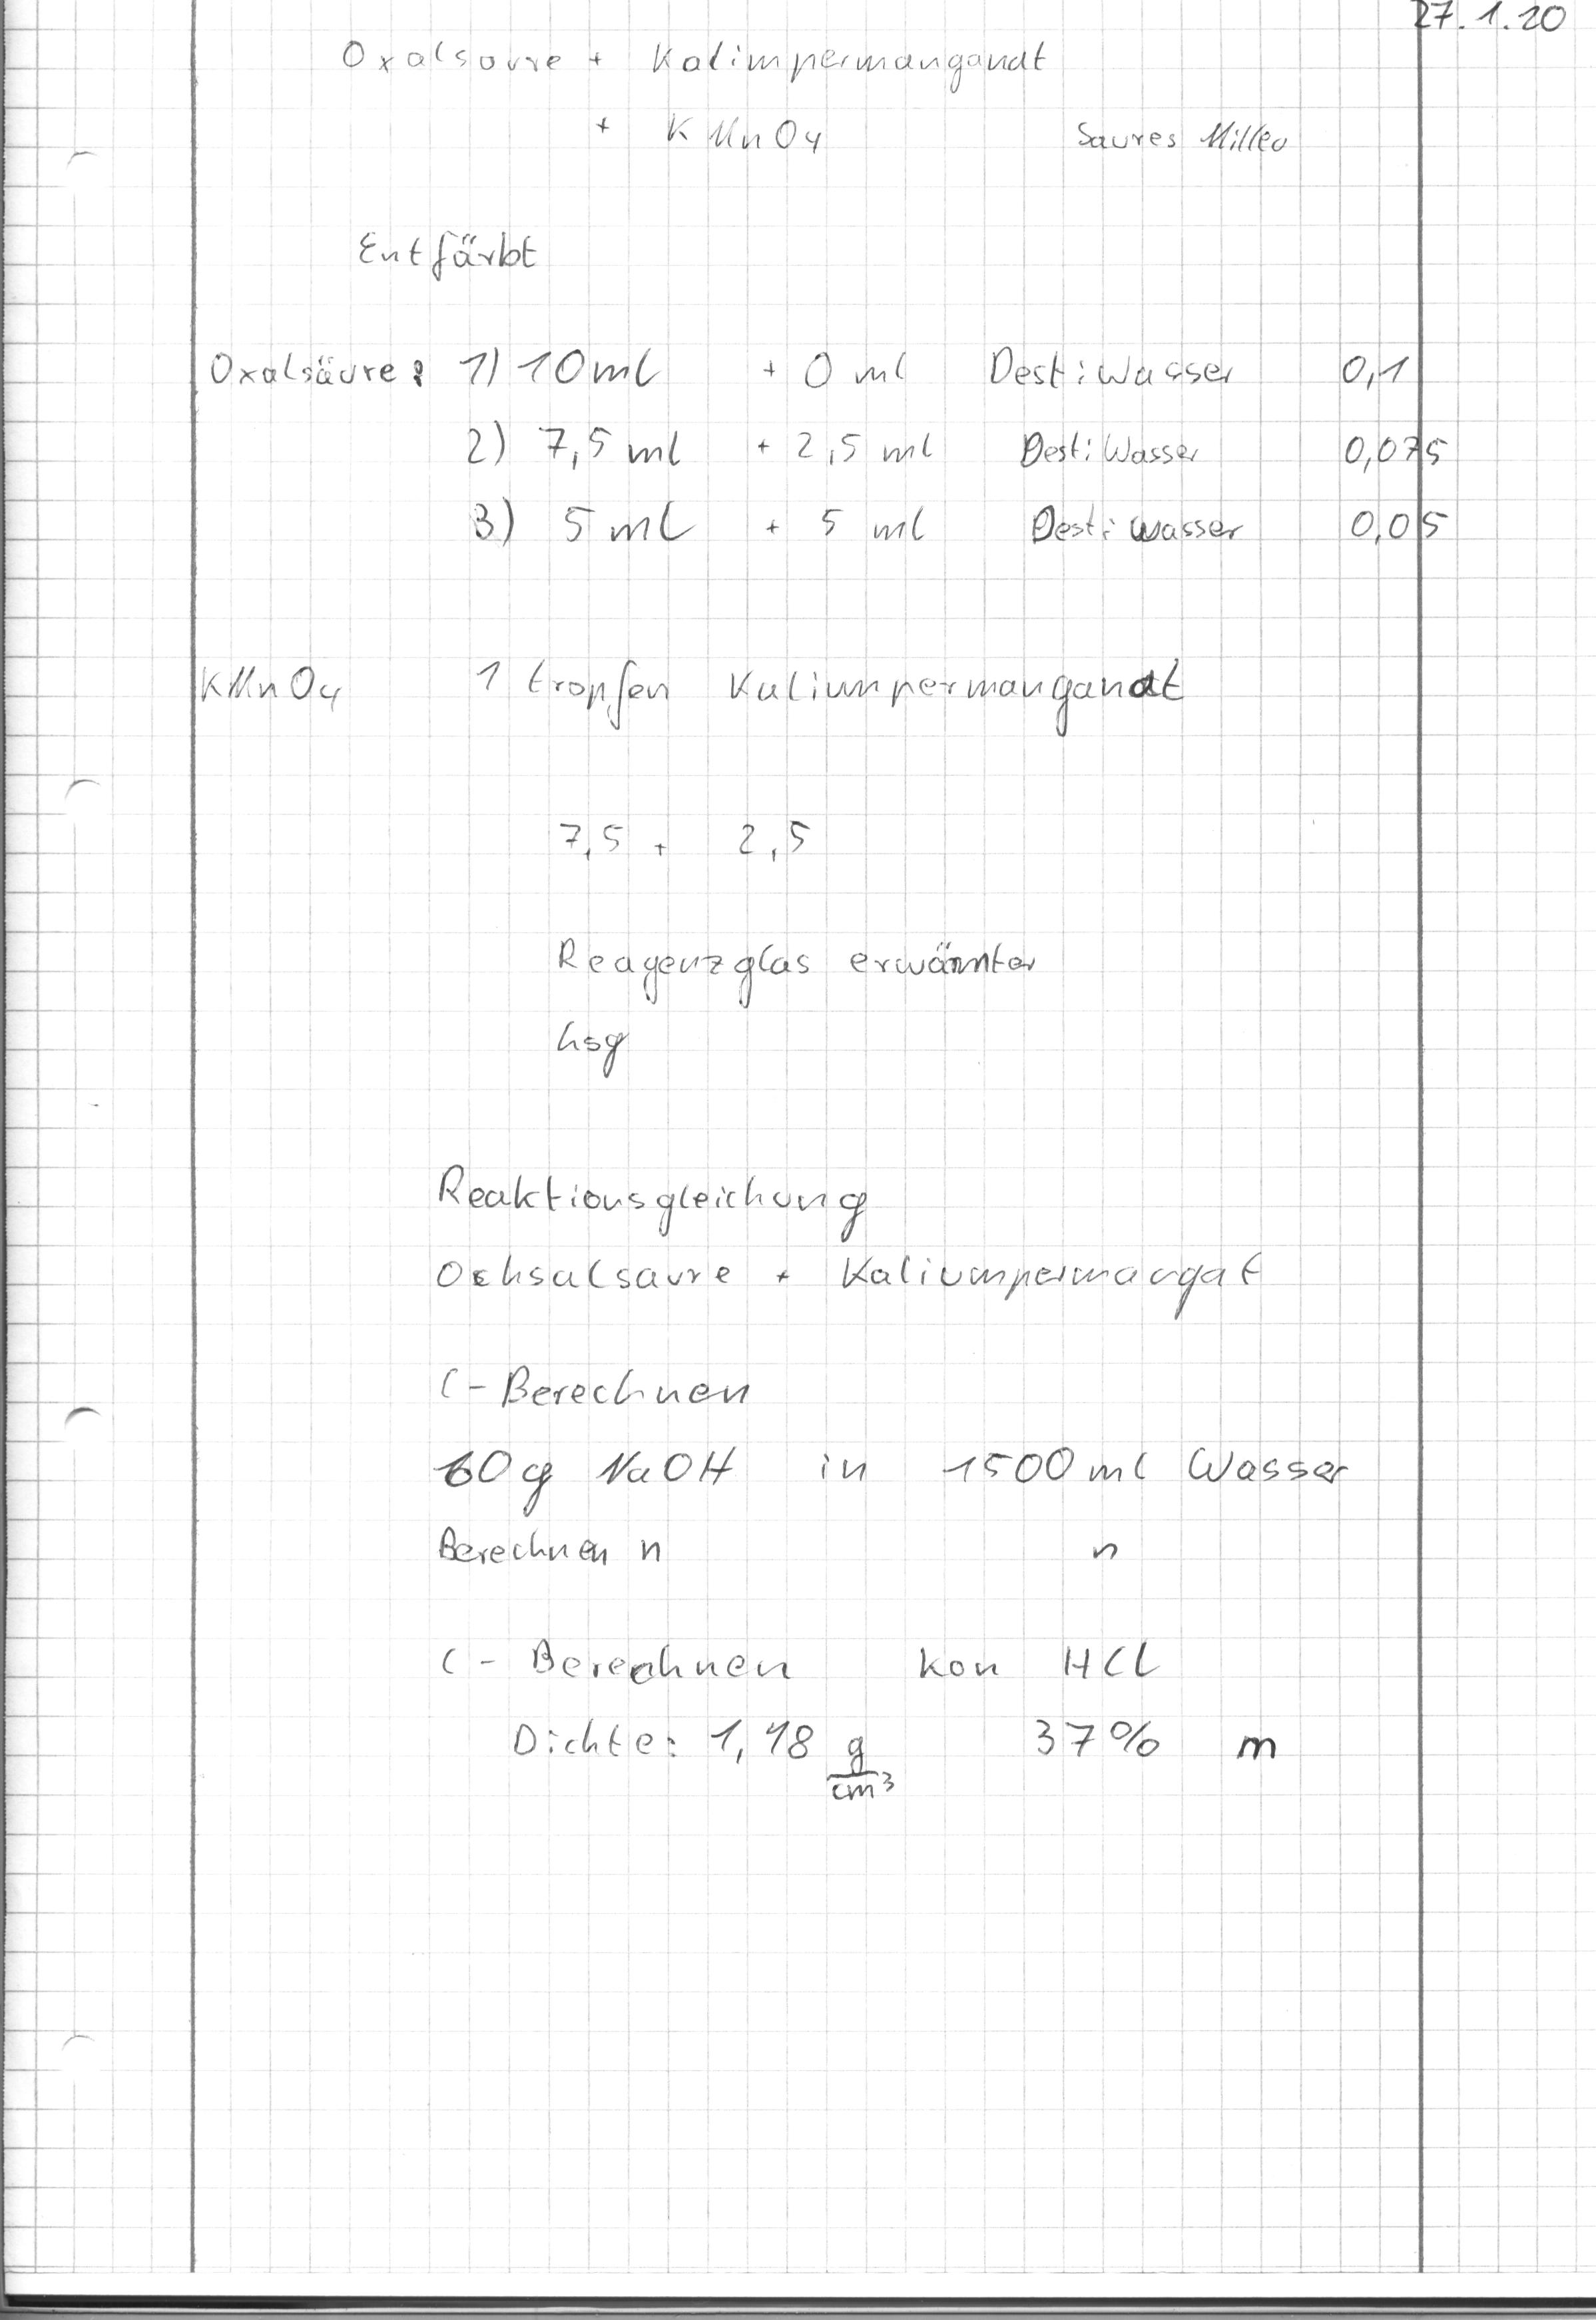word: (451, 329, 1459, 572), (422, 1361, 1346, 1584), (421, 1615, 1291, 1819), (413, 1150, 1272, 1342), (332, 17, 1297, 169), (182, 640, 1196, 764), (537, 924, 1044, 1089), (533, 792, 842, 903), (346, 192, 557, 303), (199, 324, 433, 422)
